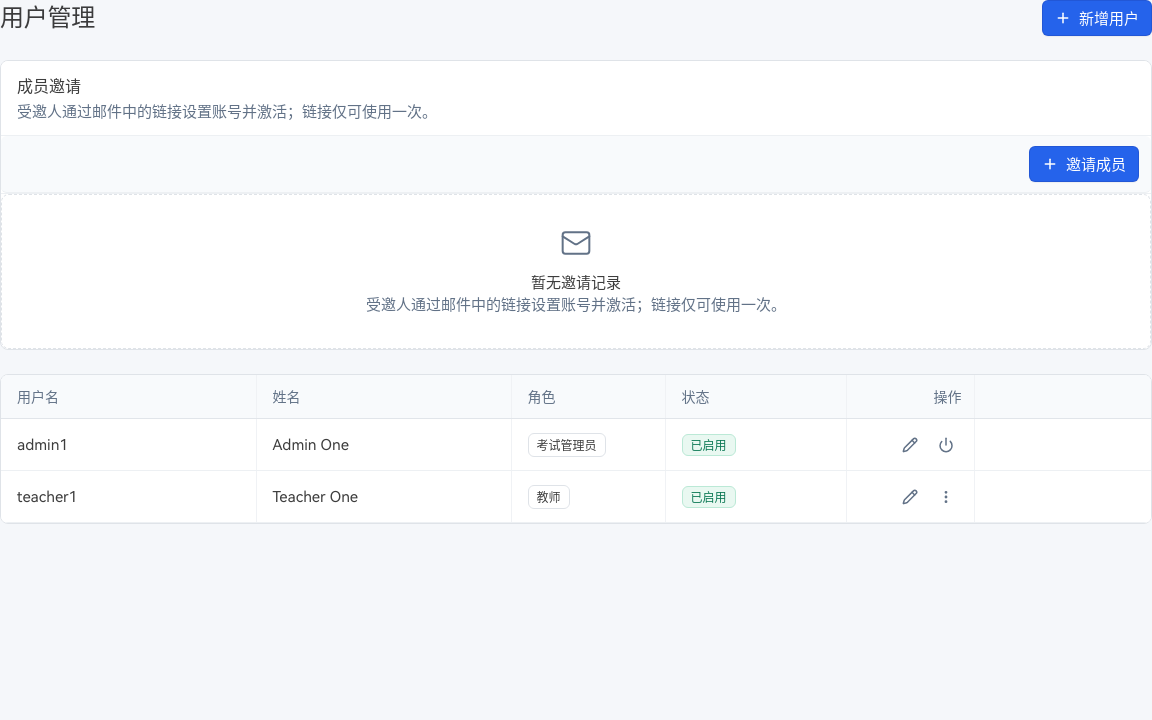
Test: UsersPage › Teacher course-assignment affordance (issue 548) › View without Manage renders the dialog read-only and never fetches the option catalog
What coordinates should you click on to do the following:
click the button named "更多操作"
I would click on:
 (946, 496)
Its box is [930,480,962,512].
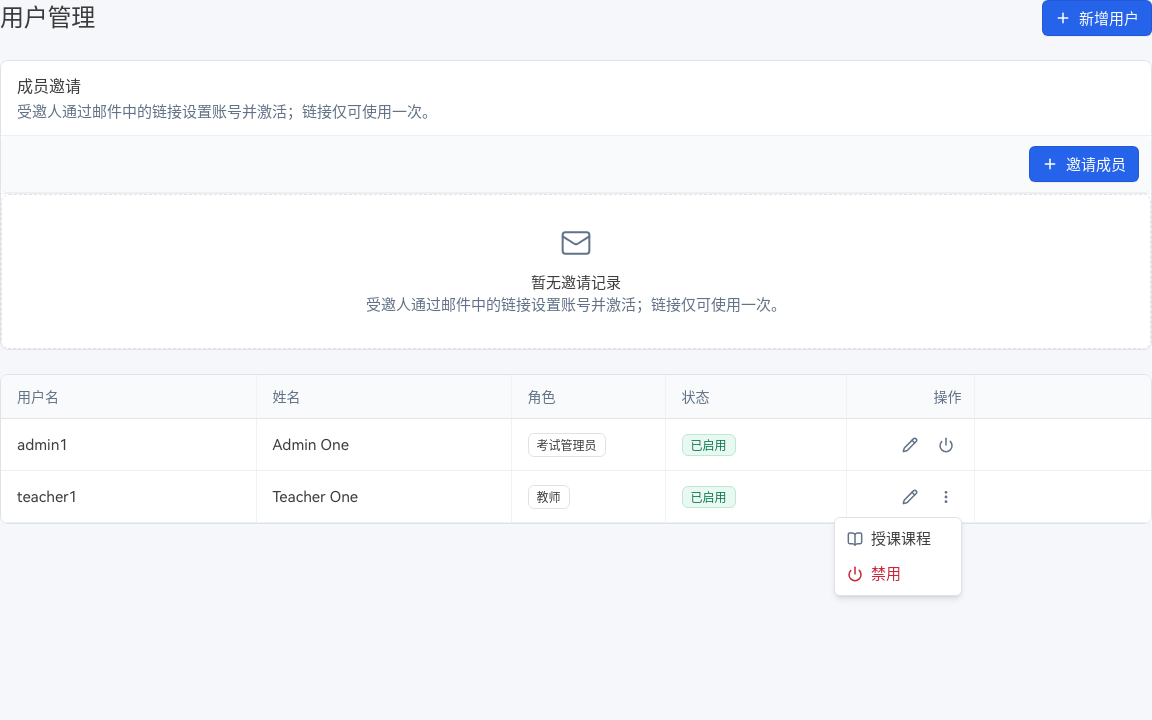
What coordinates should you click on to do the following:
click the menu item "授课课程"
I would click on:
 (889, 539)
Its box is [847,530,931,548].
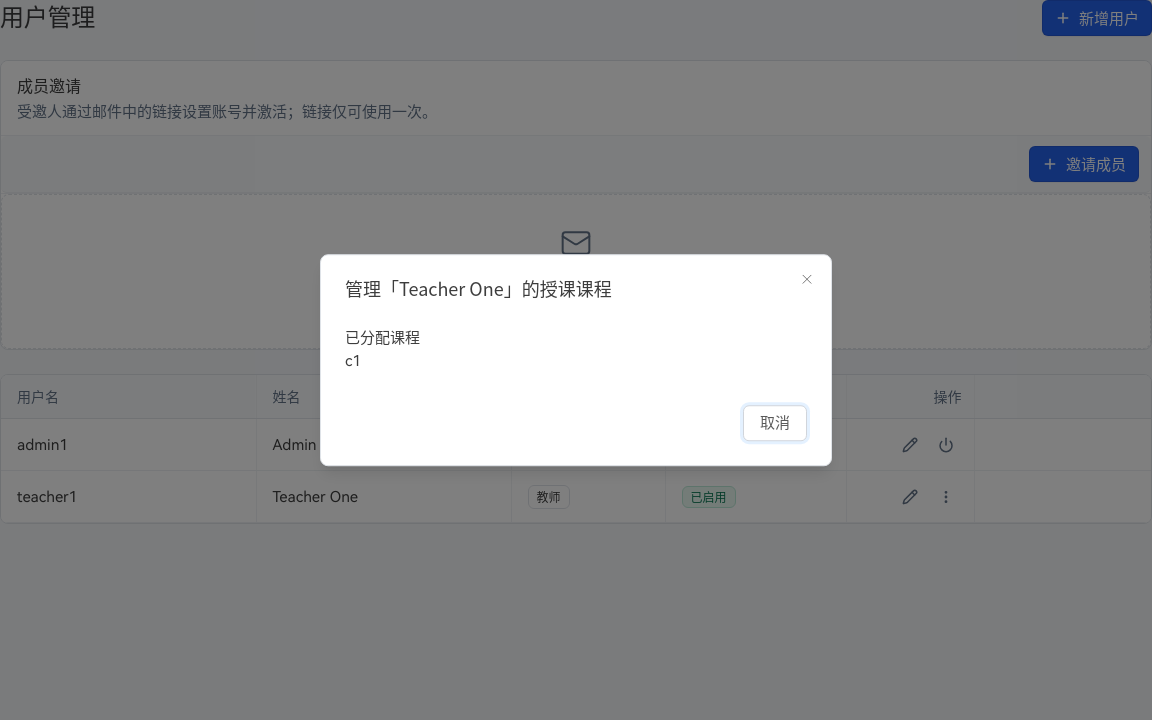
Check: the text "c1" is shown, box [345,350,361,373]
